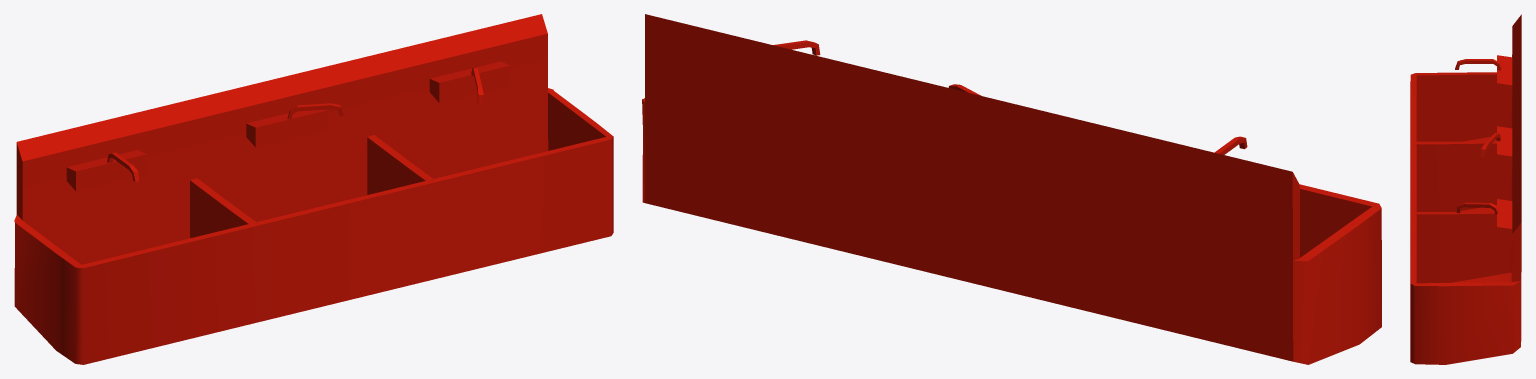
File: UCX_washbasin_3pack.fbx
3 views of the same model, side by side, from view 1: azimuth 30°, elevation 25°; view 2: azimuth 150°, elevation 25°; view 3: azimuth 270°, elevation 25° (orthographic). The views are drawn at different scales.
Visible parts, largest first — view 1: UCX_washbasin_3pack; view 2: UCX_washbasin_3pack; view 3: UCX_washbasin_3pack.
Boxes of the visible parts, x1,y1,x2,y2 form: UCX_washbasin_3pack: (14,14,613,364); UCX_washbasin_3pack: (642,14,1381,364); UCX_washbasin_3pack: (1410,14,1521,364).
Bounding box in the file's own units: 1.89 × 0.5772 × 0.4165.
